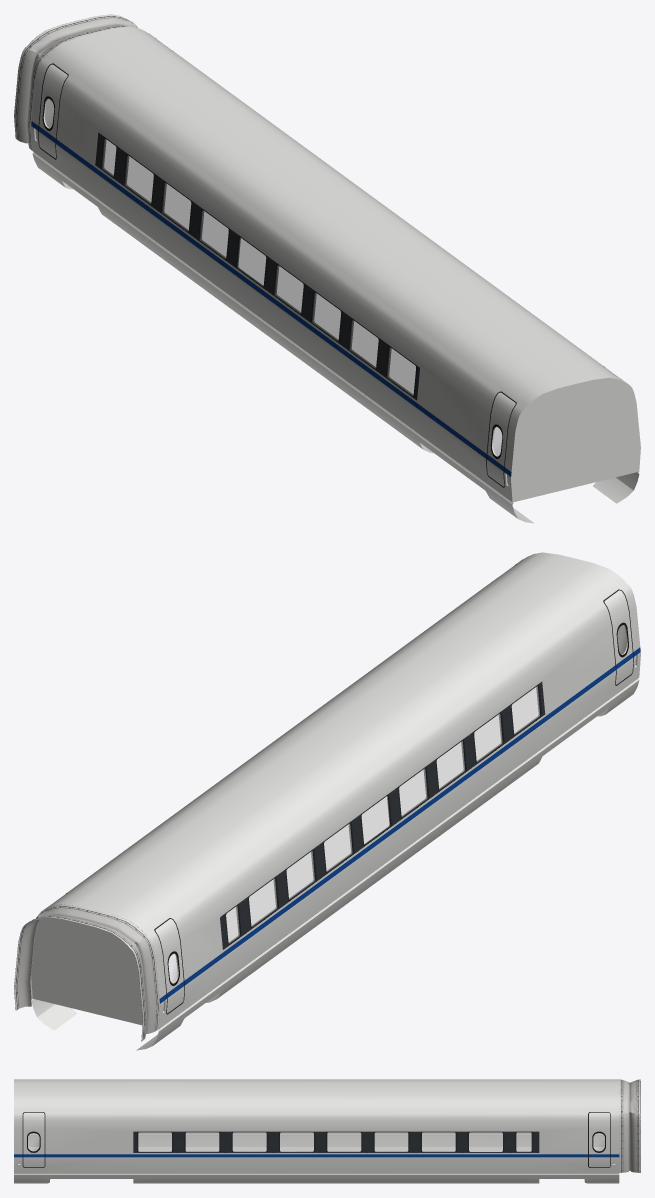
The picture shows the model from 3 angles, top to bottom: view 1: azimuth 30°, elevation 25°; view 2: azimuth 150°, elevation 25°; view 3: azimuth 270°, elevation 25°; orthographic projection. The views are drawn at different scales.
Visible parts, largest first — view 1: crh3_2hcx003, crh3_2hcxbl003, crh3_gdwk008; view 2: crh3_2hcx003, crh3_2hcxbl003, crh3_gdwk008; view 3: crh3_2hcx003, crh3_2hcxbl003, crh3_gdwk008.
Boxes of the visible parts, x1,y1,x2,y2 form: crh3_2hcx003: [31, 26, 640, 523]; crh3_2hcxbl003: [103, 138, 415, 395]; crh3_gdwk008: [14, 14, 137, 150]; crh3_2hcx003: [31, 552, 640, 1050]; crh3_2hcxbl003: [226, 686, 539, 943]; crh3_gdwk008: [14, 904, 159, 1041]; crh3_2hcx003: [14, 1079, 619, 1183]; crh3_2hcxbl003: [138, 1132, 531, 1151]; crh3_gdwk008: [619, 1079, 640, 1172].
Bounding box in the file's own units: 386 × 368 × 2554.
